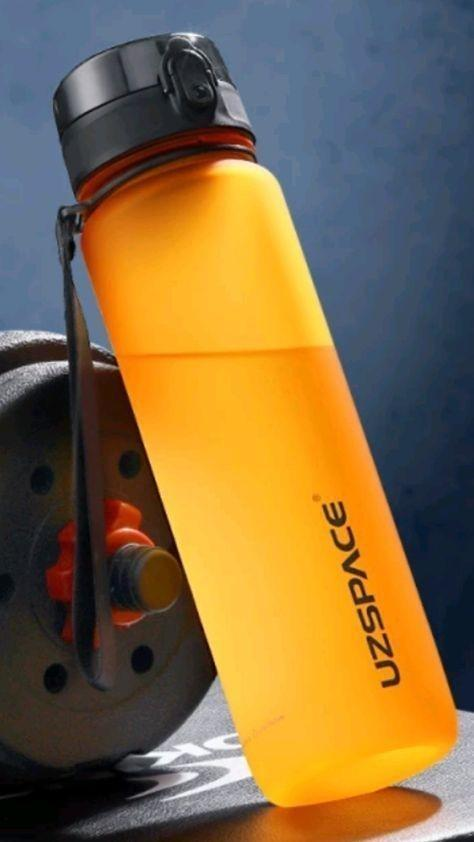gym bottle: (46, 31, 460, 810)
